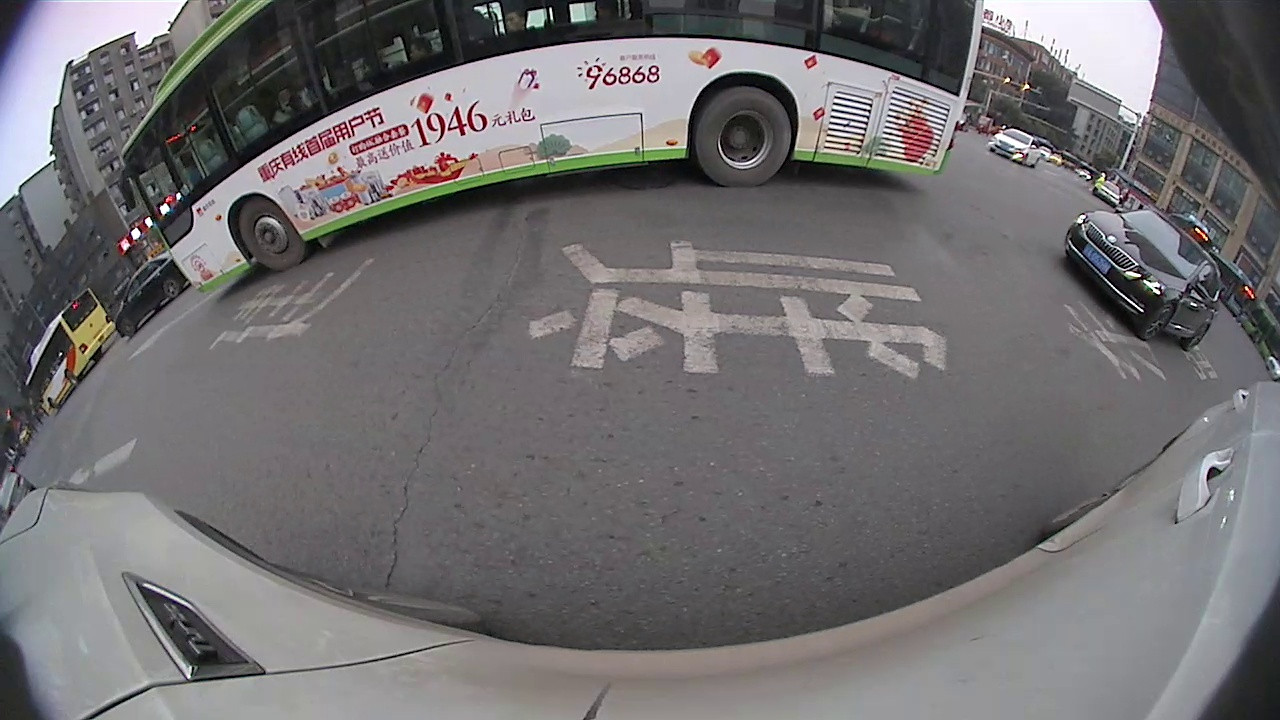car: (106, 137, 301, 309), (946, 176, 1087, 275), (1167, 373, 1256, 498), (1, 306, 72, 403), (54, 249, 110, 319)
front: (110, 280, 136, 309), (1010, 227, 1036, 252)
rear: (158, 253, 198, 300), (1060, 253, 1076, 274)
